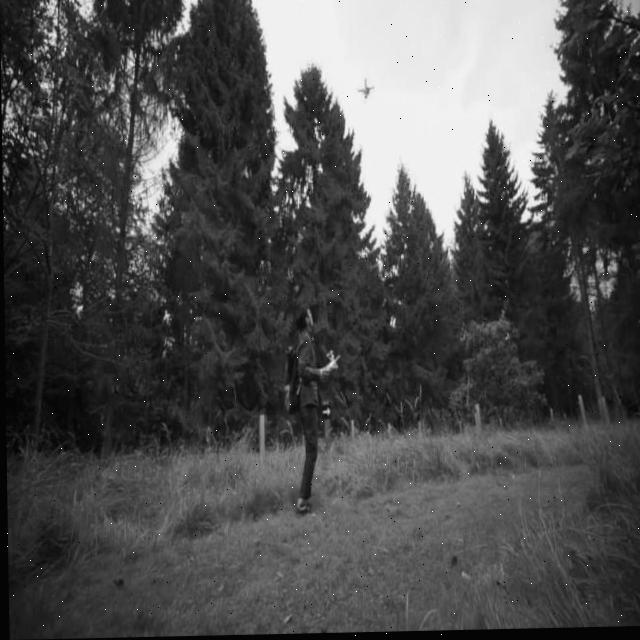drone: (357, 77, 375, 102)
